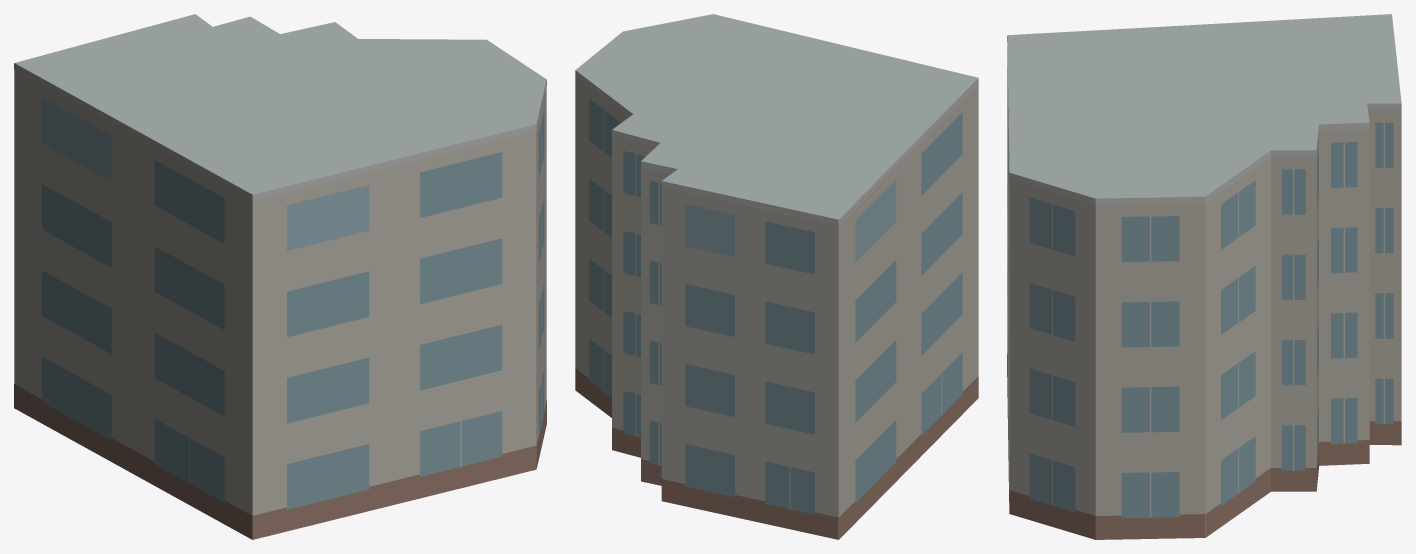
File: survey-upis-32644786.glb
The picture shows the model from 3 angles, left to right: view 1: azimuth 30°, elevation 25°; view 2: azimuth 150°, elevation 25°; view 3: azimuth 270°, elevation 25°; orthographic projection. The views are drawn at different scales.
Parts seen in each view (by area): view 1: survey-upis-32644786.tmp; view 2: survey-upis-32644786.tmp; view 3: survey-upis-32644786.tmp.
Boxes of the visible parts, x1,y1,x2,y2 form: survey-upis-32644786.tmp: (14,14,546,539); survey-upis-32644786.tmp: (575,14,978,539); survey-upis-32644786.tmp: (1007,14,1401,539).
Size of the model in its own units: 14.86 by 12.8 by 13.42.
